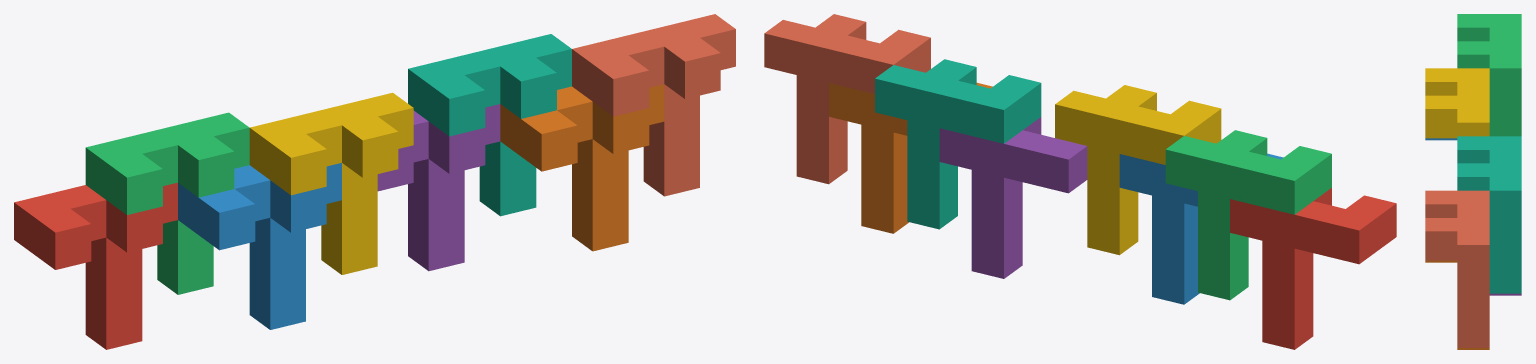
File: tiling.obj
3 renders of one model, left to right at view 1: azimuth 30°, elevation 25°; view 2: azimuth 150°, elevation 25°; view 3: azimuth 270°, elevation 25°, orthographic. The views are drawn at different scales.
Visible parts, largest first — view 1: copy_1_domain_4, copy_1_domain_8, copy_1_domain_3, copy_1_domain_7, copy_1_domain_1, copy_1_domain_6, copy_1_domain_2, copy_1_domain_5; view 2: copy_1_domain_7, copy_1_domain_3, copy_1_domain_8, copy_1_domain_4, copy_1_domain_1, copy_1_domain_5, copy_1_domain_6, copy_1_domain_2; view 3: copy_1_domain_8, copy_1_domain_7, copy_1_domain_3, copy_1_domain_4, copy_1_domain_6, copy_1_domain_2, copy_1_domain_5.
Boxes of the visible parts, <box> form: copy_1_domain_4: <box>249,92,413,274</box>; copy_1_domain_8: <box>572,14,735,196</box>; copy_1_domain_3: <box>85,112,249,294</box>; copy_1_domain_7: <box>408,34,571,216</box>; copy_1_domain_1: <box>14,182,177,349</box>; copy_1_domain_6: <box>500,84,664,251</box>; copy_1_domain_2: <box>178,163,341,329</box>; copy_1_domain_5: <box>377,104,500,271</box>; copy_1_domain_7: <box>875,59,1041,229</box>; copy_1_domain_3: <box>1165,130,1331,300</box>; copy_1_domain_8: <box>764,14,930,184</box>; copy_1_domain_4: <box>1055,85,1221,255</box>; copy_1_domain_1: <box>1230,188,1396,349</box>; copy_1_domain_5: <box>939,117,1087,278</box>; copy_1_domain_6: <box>829,82,992,233</box>; copy_1_domain_2: <box>1119,153,1283,304</box>; copy_1_domain_8: <box>1425,190,1489,347</box>; copy_1_domain_7: <box>1457,136,1521,293</box>; copy_1_domain_3: <box>1457,14,1521,136</box>; copy_1_domain_4: <box>1425,68,1489,138</box>; copy_1_domain_6: <box>1425,260,1489,349</box>; copy_1_domain_2: <box>1425,138,1457,140</box>; copy_1_domain_5: <box>1489,293,1521,295</box>.
Size of the model in its own units: 19 by 5 by 3.
